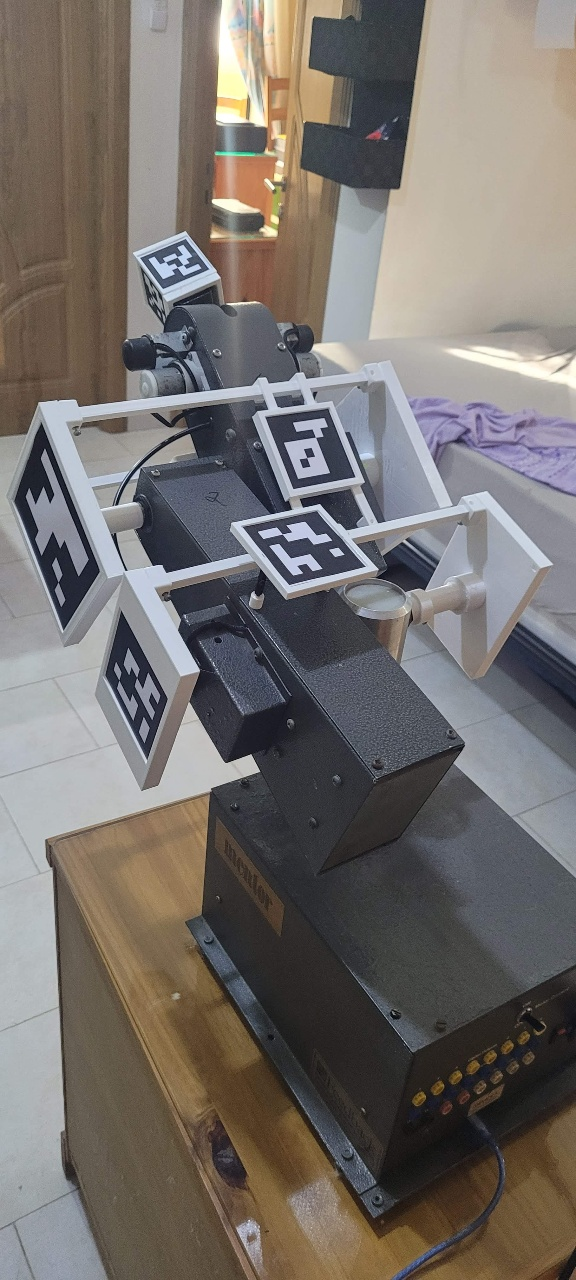Robot: (3, 282, 555, 1280)
